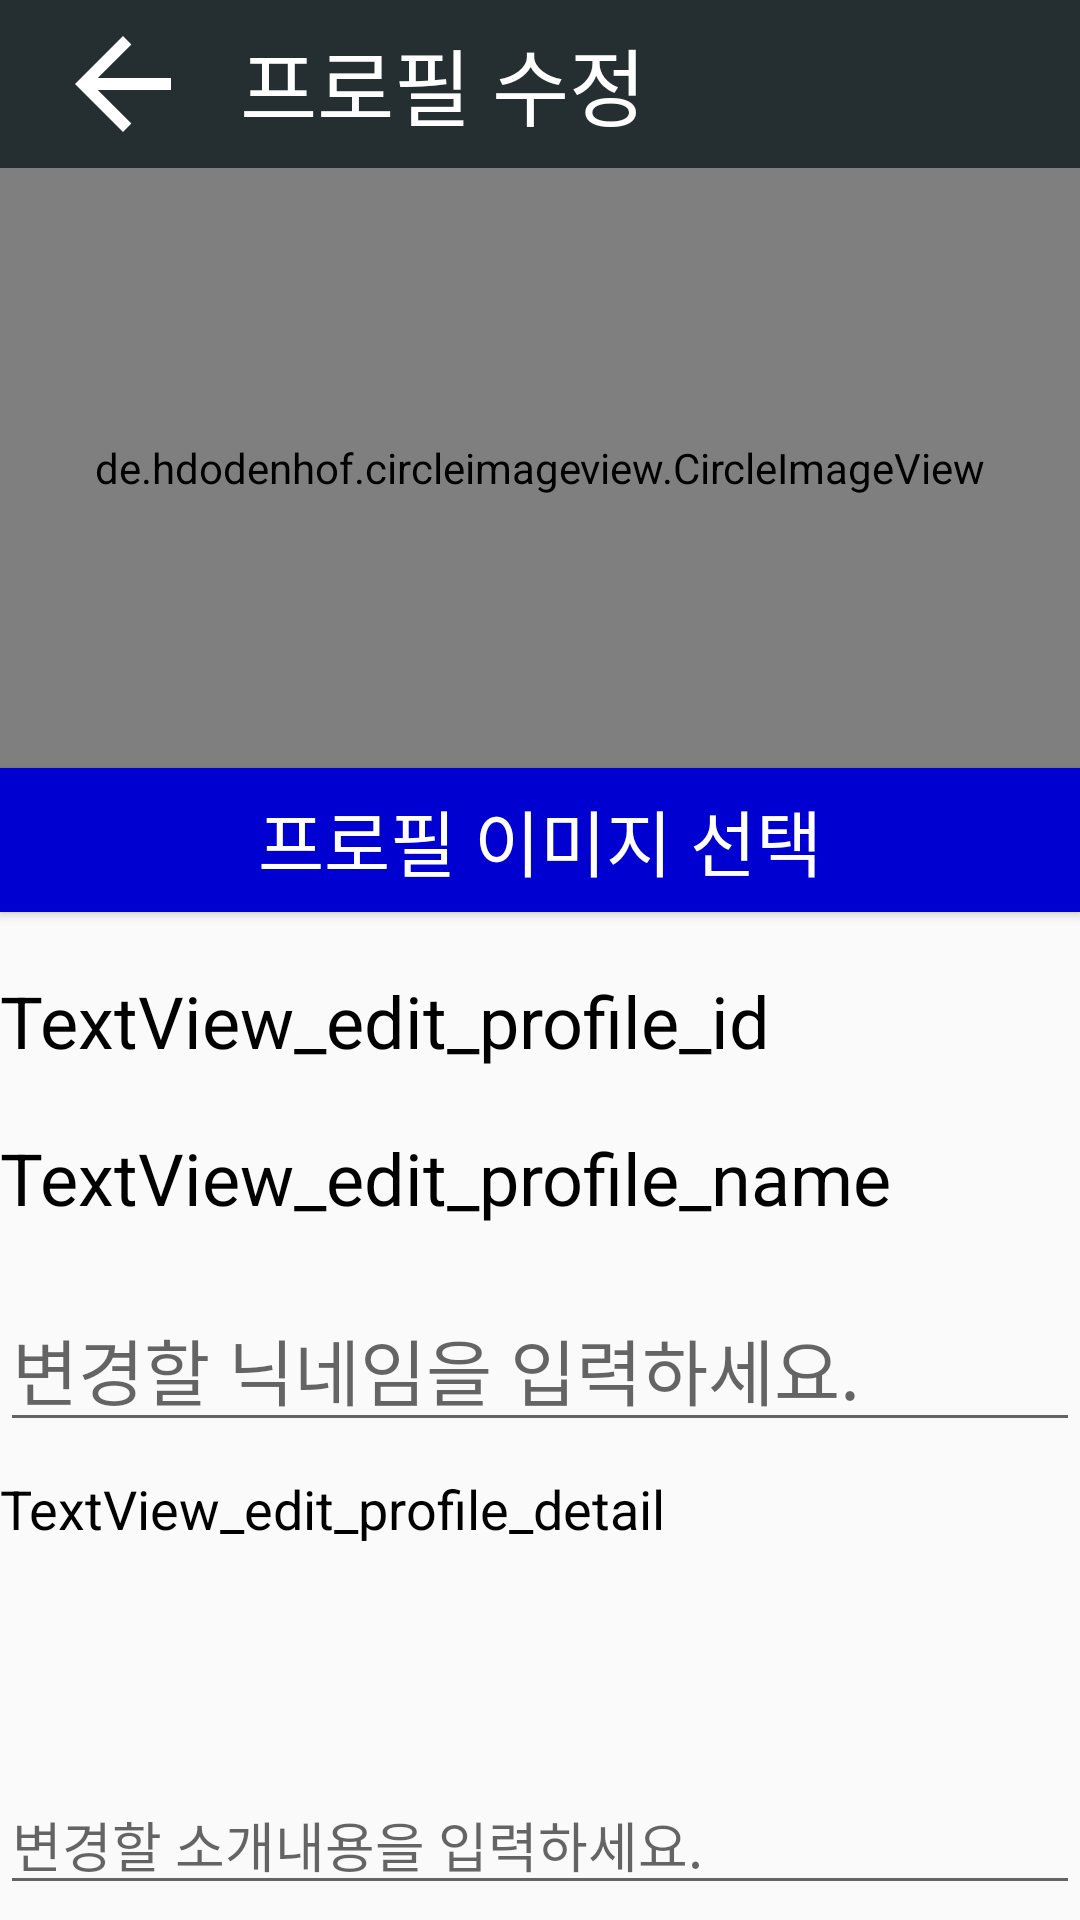

Screen size 1080w x 1920h. Icon name, then its box in pixels as (x1, y1, x2, y2):
back toolbar: (75, 36, 171, 132)
